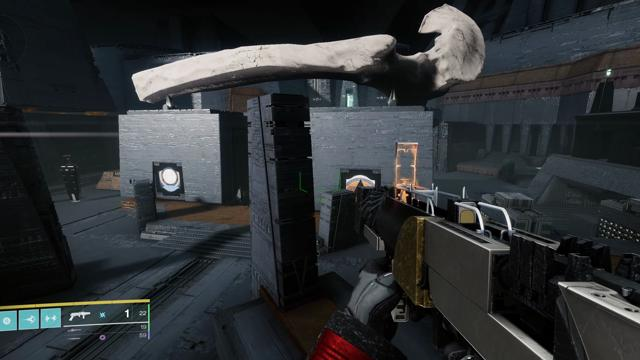pyramid: (346, 175, 375, 189)
traveler: (158, 167, 181, 192)
